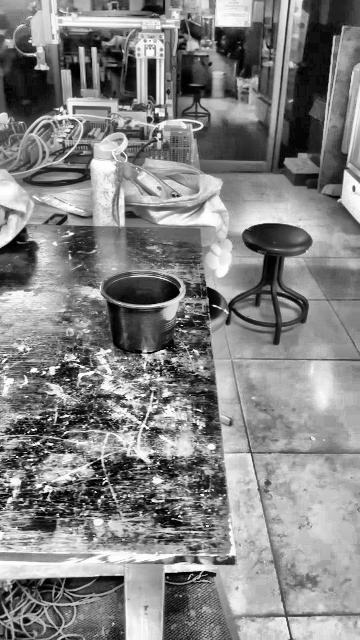pot: (101, 271, 182, 352)
